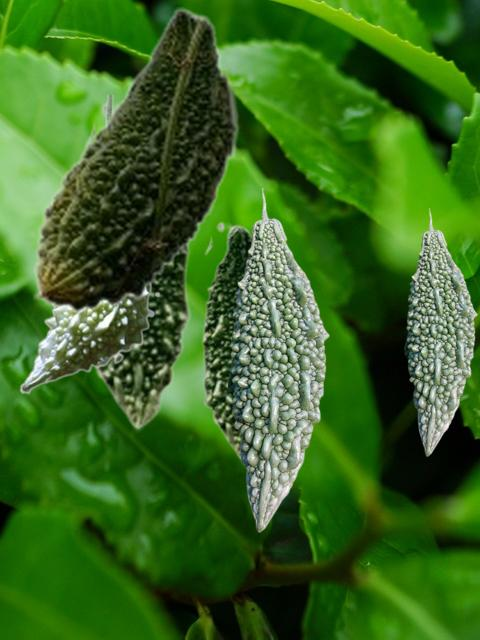ampalaya: (33, 7, 239, 312), (19, 95, 160, 393), (81, 101, 194, 431), (227, 188, 328, 531), (404, 208, 476, 455), (201, 221, 250, 462)
